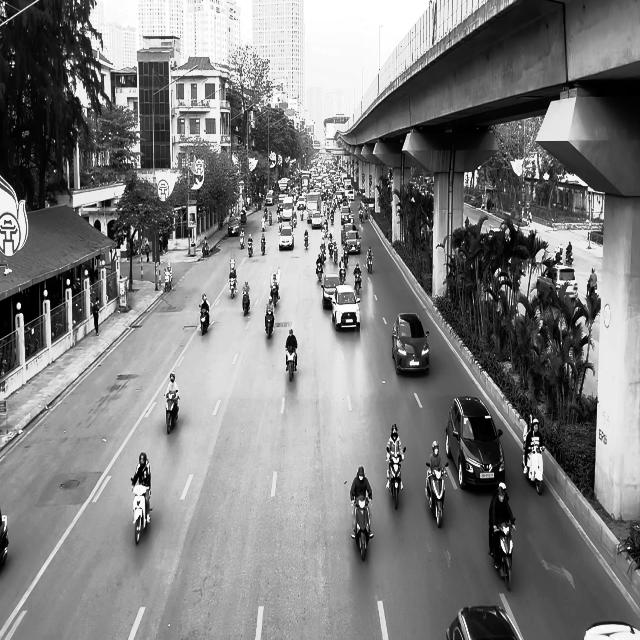car: (445, 396, 505, 490), (445, 604, 520, 640), (391, 312, 430, 374), (537, 264, 578, 306), (331, 284, 361, 331), (321, 273, 341, 309), (278, 225, 294, 250), (227, 217, 240, 236)
motorbike: (491, 520, 516, 591), (350, 493, 373, 561), (425, 461, 448, 527), (131, 480, 151, 544), (386, 446, 406, 510), (522, 442, 545, 494), (164, 392, 180, 434), (286, 346, 298, 381), (199, 304, 209, 334), (264, 309, 274, 338), (242, 291, 250, 316), (270, 284, 279, 306), (229, 276, 237, 298), (164, 270, 172, 292), (354, 273, 361, 295), (366, 255, 373, 273), (260, 238, 266, 255), (202, 243, 209, 257), (247, 241, 253, 257)
